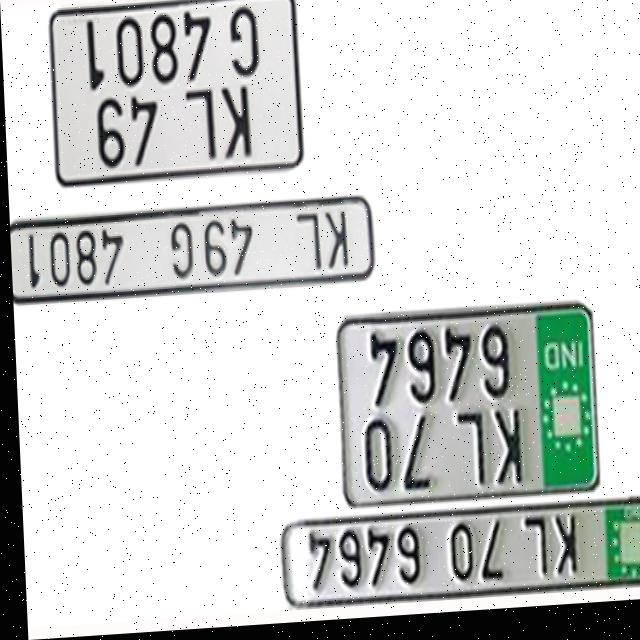plate: (333, 309, 599, 515), (46, 0, 304, 188), (275, 507, 640, 616), (8, 205, 372, 309)
